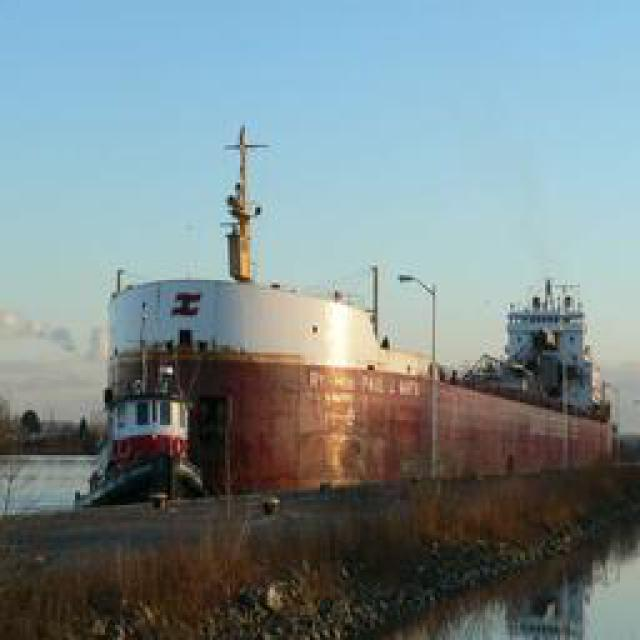Ship: (97, 266, 625, 506)
